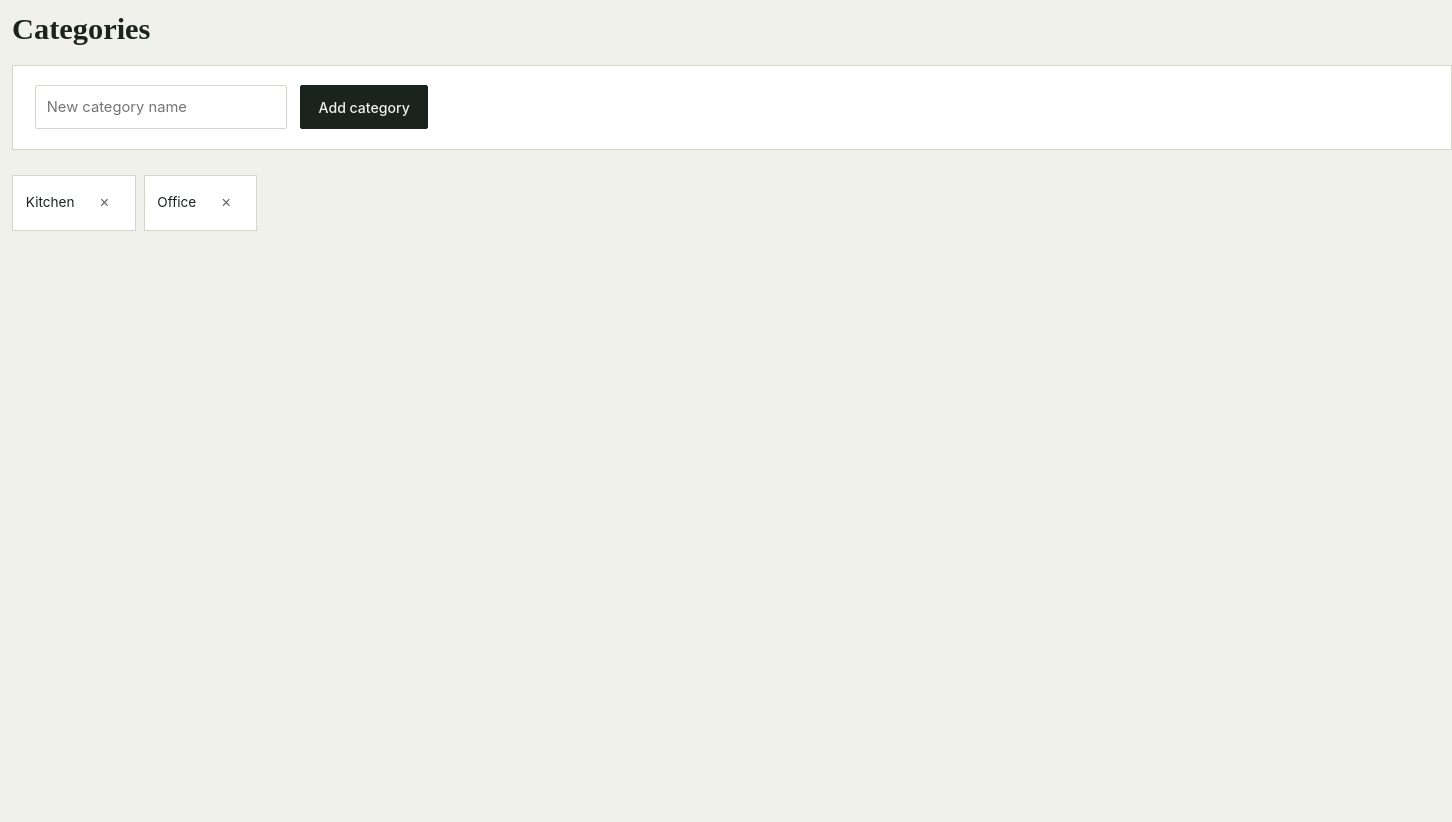
Scenario: AdminCategoriesPage deleting a category › deletes the chosen category and confirms it
Expected: the list item "Kitchen" is shown, [26, 194, 74, 210]
Click the button named "Delete Kitchen": (104, 203) [82, 181, 126, 225]
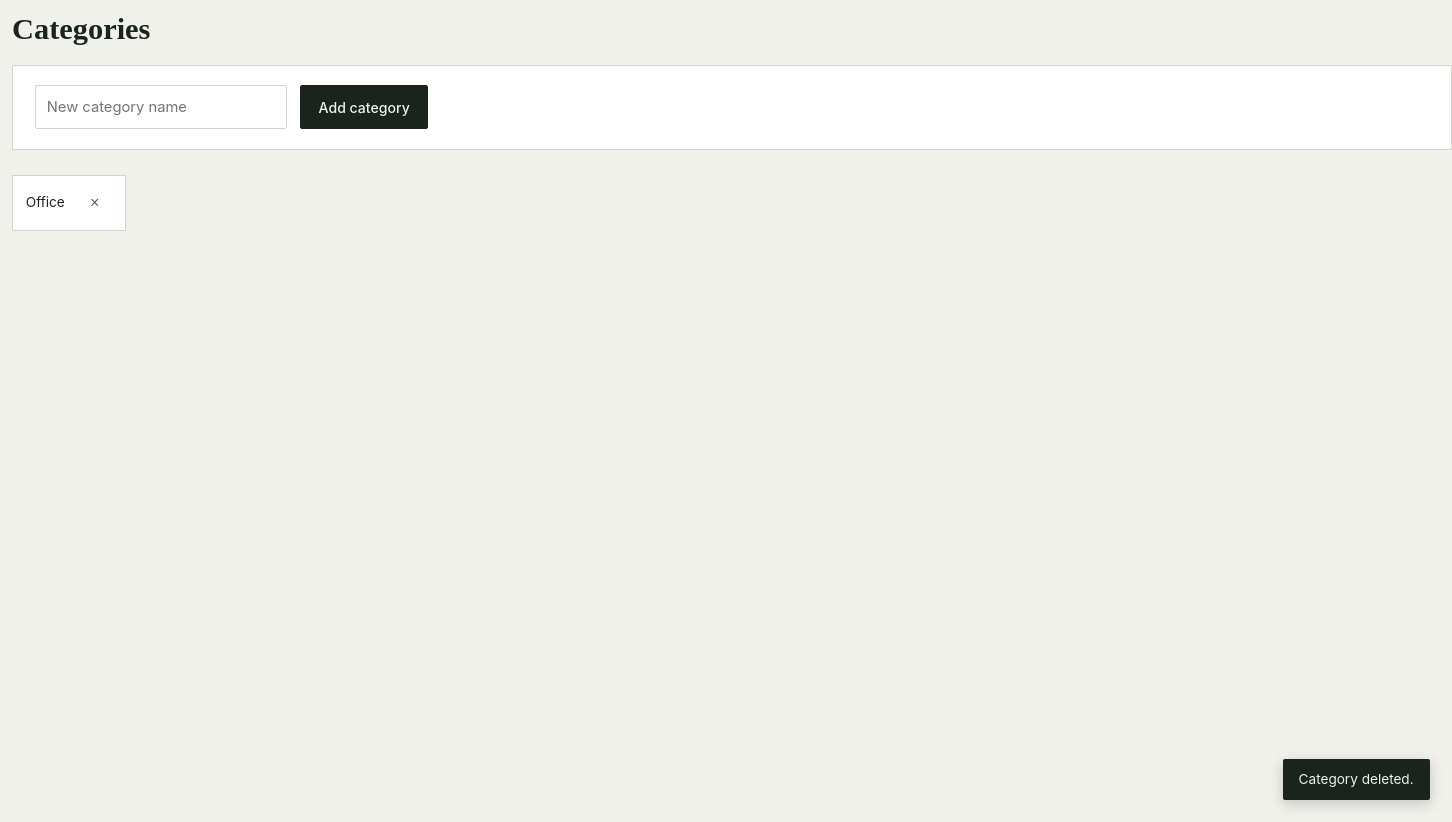
Expected: the text "Category deleted." is shown, [1283, 759, 1430, 800]
Expected: the list item "Kitchen" is gone
